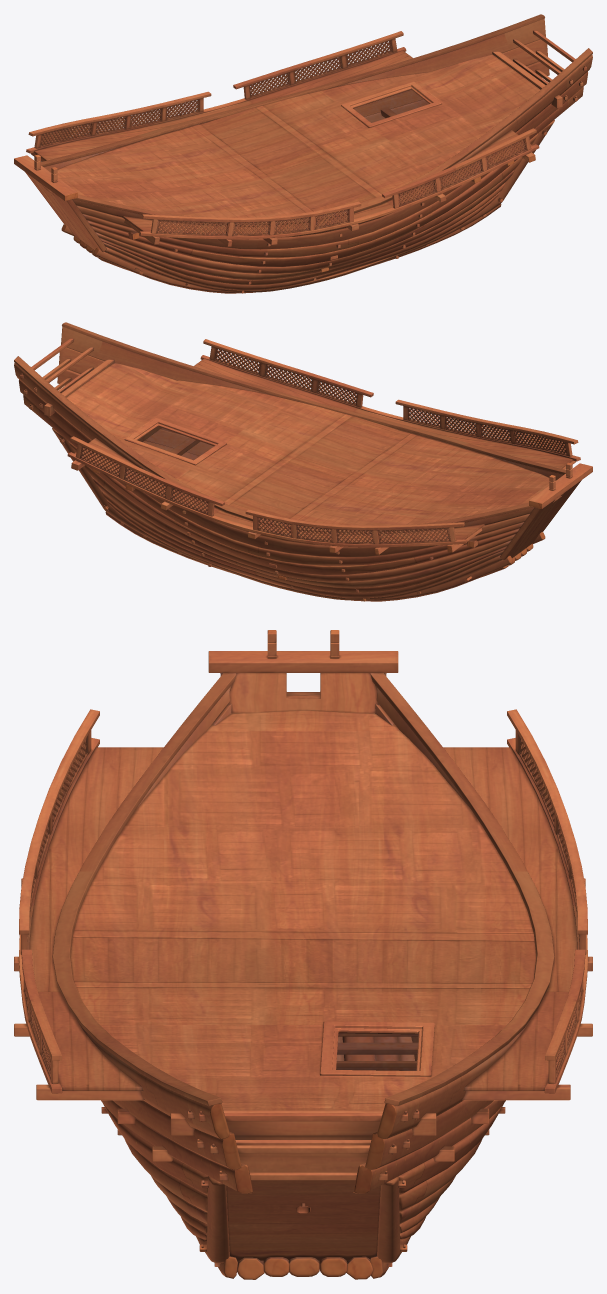
The model's file is SM_Mado_ship_body.fbx.
The picture shows the model from 3 angles, top to bottom: view 1: azimuth 30°, elevation 25°; view 2: azimuth 150°, elevation 25°; view 3: azimuth 270°, elevation 25°; orthographic projection. The views are drawn at different scales.
Visible parts, largest first — view 1: SM_Mado_ship_body; view 2: SM_Mado_ship_body; view 3: SM_Mado_ship_body.
Part boxes in pixels (x1,y1,x2,y2): SM_Mado_ship_body: [14, 14, 592, 293]; SM_Mado_ship_body: [14, 322, 592, 601]; SM_Mado_ship_body: [14, 630, 592, 1279].
Size of the model in its own units: 1619 by 826 by 482.
Materials: 2 (2 with a texture image).
